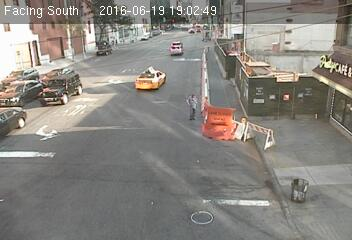neg: (250, 123, 277, 160), (210, 104, 236, 139), (195, 39, 219, 71)
pos: (179, 90, 205, 124)
